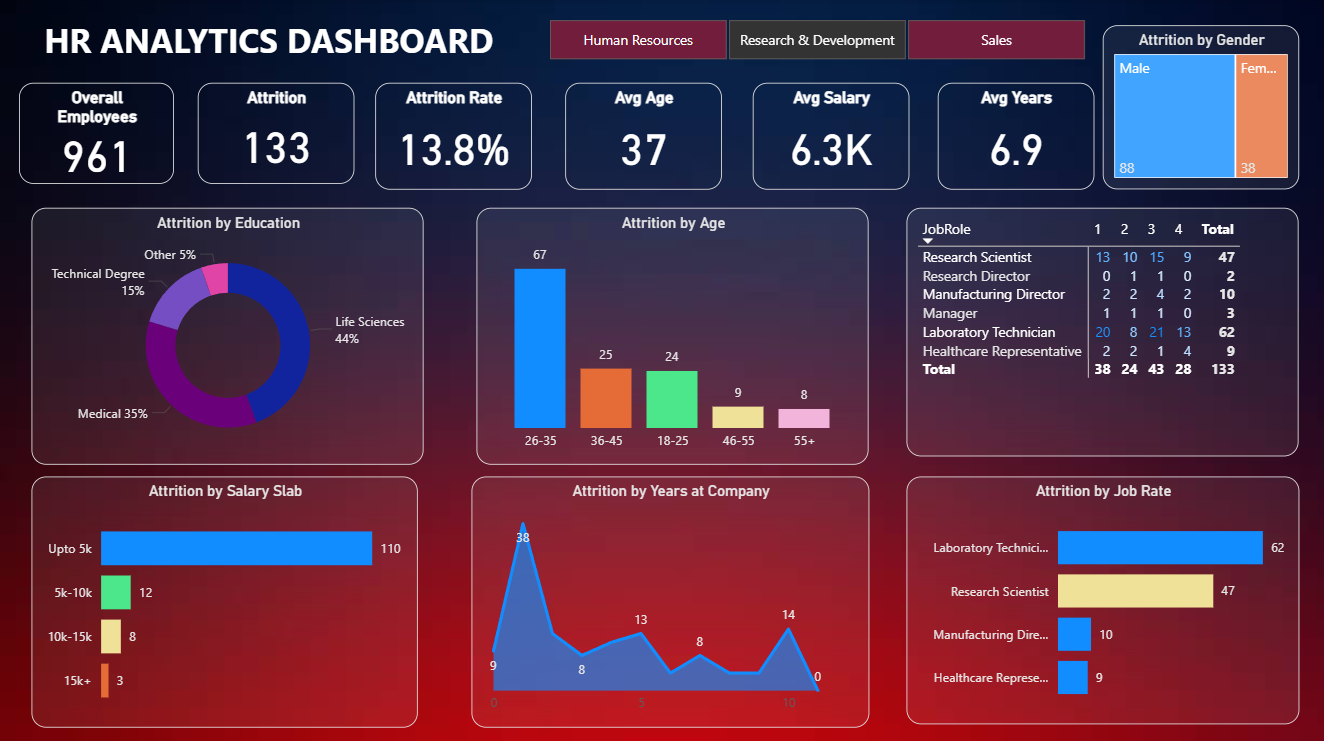

The dashboard page shown, as its layout file describes it:
{"tool":"powerbi","page":{"name":"Page 1","canvas":[1280,720],"ordinal":0},"visuals":[{"type":"card","title":"Overall Employees","fields":{"Values":["Count(HR_Analytics.EmpID)"]},"box":[19.1,80.6,149.6,97.4],"z":0},{"type":"card","title":"Attrition","fields":{"Values":["Sum(HR_Analytics.AttritionCount)"]},"box":[192,80.6,150.9,97.4],"z":1000},{"type":"card","title":"Attrition Rate","fields":{"Values":["select","HR_Analytics.AttritionRate"]},"box":[363.5,80.6,150.9,102.9],"z":2000},{"type":"card","title":"Avg Age","fields":{"Values":["Avg(HR_Analytics.Age)"]},"box":[546.1,80.6,150.9,102.9],"z":3000},{"type":"card","title":"Avg Salary","fields":{"Values":["Avg(HR_Analytics.MonthlyIncome)"]},"box":[727.2,80.6,150.9,102.9],"z":4000},{"type":"card","title":"Avg Years","fields":{"Values":["Avg(HR_Analytics.YearsAtCompany)"]},"box":[905.6,80.6,150.9,102.9],"z":5000},{"type":"donutChart","title":"Attrition by Education","fields":{"Category":["HR_Analytics.EducationField"],"Y":["Sum(HR_Analytics.AttritionCount)"]},"box":[31.7,201.9,378.7,248.4],"z":6000},{"type":"columnChart","title":"Attrition by Age","fields":{"Category":["HR_Analytics.AgeGroup"],"Y":["Sum(HR_Analytics.AttritionCount)"]},"box":[461.2,201.9,378.7,248.4],"z":7000},{"type":"pivotTable","fields":{"Rows":["HR_Analytics.JobRole"],"Columns":["HR_Analytics.JobSatisfaction"],"Values":["Sum(HR_Analytics.AttritionCount)"]},"box":[875.6,201.9,378.7,240.1],"z":8000},{"type":"barChart","title":"Attrition by Salary Slab","fields":{"Category":["HR_Analytics.SalarySlab"],"Y":["Sum(HR_Analytics.AttritionCount)"]},"box":[31.4,460.9,372.8,242.5],"z":9000},{"type":"barChart","title":"Attrition by Job Rate","fields":{"Y":["Sum(HR_Analytics.AttritionCount)"],"Category":["HR_Analytics.JobRole"]},"box":[875.9,460.9,378.8,238.9],"z":10000},{"type":"areaChart","title":"Attrition by Years at Company","fields":{"Category":["HR_Analytics.YearsAtCompany"],"Y":["Sum(HR_Analytics.AttritionCount)"]},"box":[456,460.9,383.6,242.5],"z":11000},{"type":"treemap","title":"Attrition by Gender","fields":{"Group":["HR_Analytics.Gender"],"Values":["Sum(HR_Analytics.AttritionCount)"]},"box":[1065.3,25.3,189.4,158],"z":12000},{"type":"slicer","fields":{"Values":["HR_Analytics.Department"]},"box":[505,13.7,566.7,52.1],"z":13000},{"type":"textbox","box":[38.4,13.7,570.8,65.9],"z":14000}]}

Visuals, with their boxes in screenshot pixels (x1, y1, x2, y2), scaled from the page's 1280x720 canvas onto the 1324x741 screenshot:
"Overall Employees" card: [20,83,174,183]
"Attrition" card: [199,83,355,183]
"Attrition Rate" card: [376,83,532,189]
"Avg Age" card: [565,83,721,189]
"Avg Salary" card: [752,83,908,189]
"Avg Years" card: [937,83,1093,189]
"Attrition by Education" donutChart: [33,208,425,463]
"Attrition by Age" columnChart: [477,208,869,463]
pivotTable - HR_Analytics.JobRole x HR_Analytics.JobSatisfaction: [906,208,1297,455]
"Attrition by Salary Slab" barChart: [32,474,418,724]
"Attrition by Job Rate" barChart: [906,474,1298,720]
"Attrition by Years at Company" areaChart: [472,474,868,724]
"Attrition by Gender" treemap: [1102,26,1298,189]
slicer - HR_Analytics.Department: [522,14,1109,68]
textbox: [40,14,630,82]
